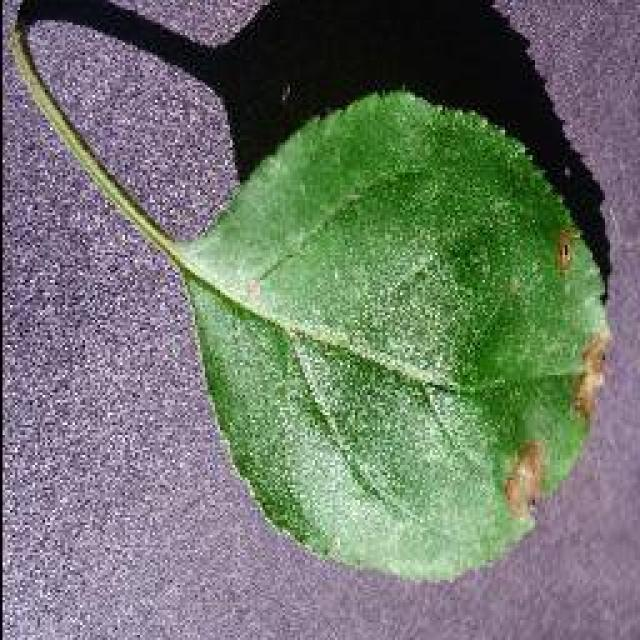Black_rot: (7, 0, 612, 582)
